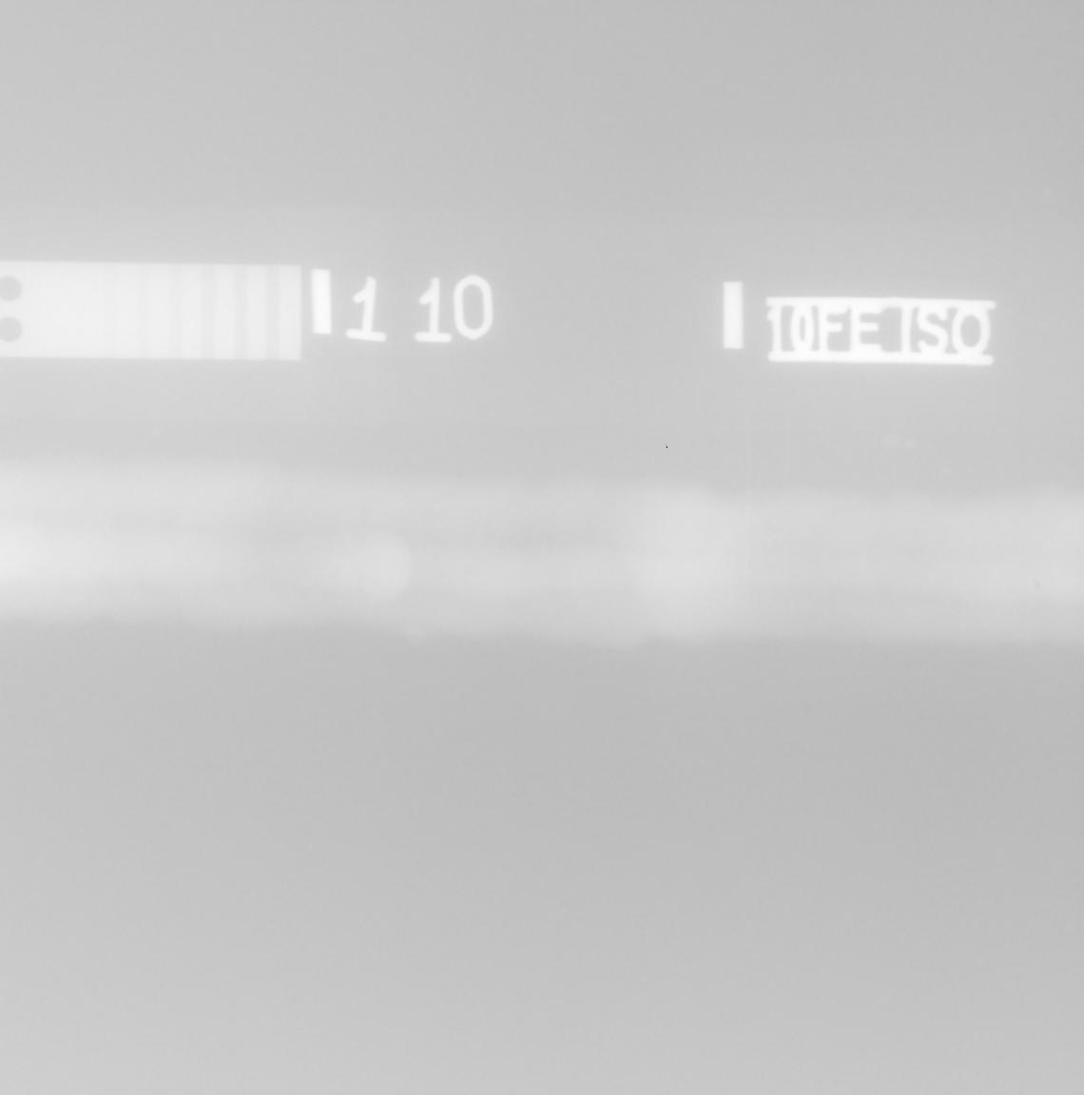Inclusion: (139, 579, 145, 589), (970, 589, 978, 594)
Pore/Porosity: (1033, 582, 1043, 590), (465, 569, 473, 575), (357, 587, 363, 593), (85, 567, 91, 572), (582, 562, 588, 565)
